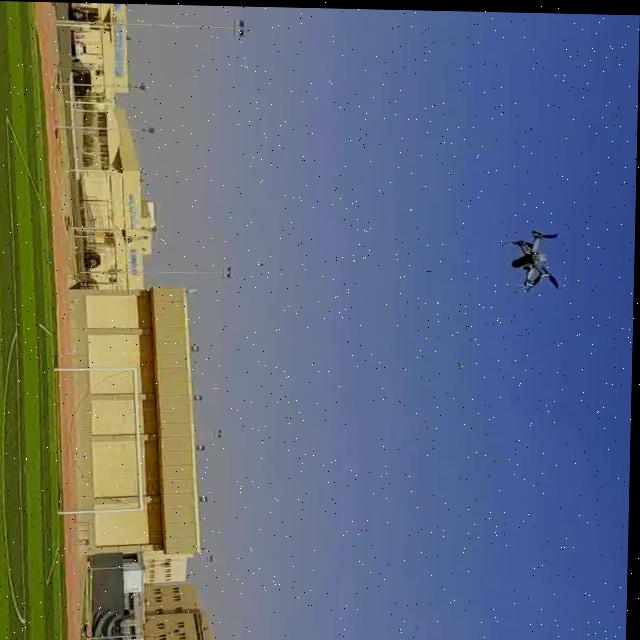drone: (500, 224, 567, 293)
